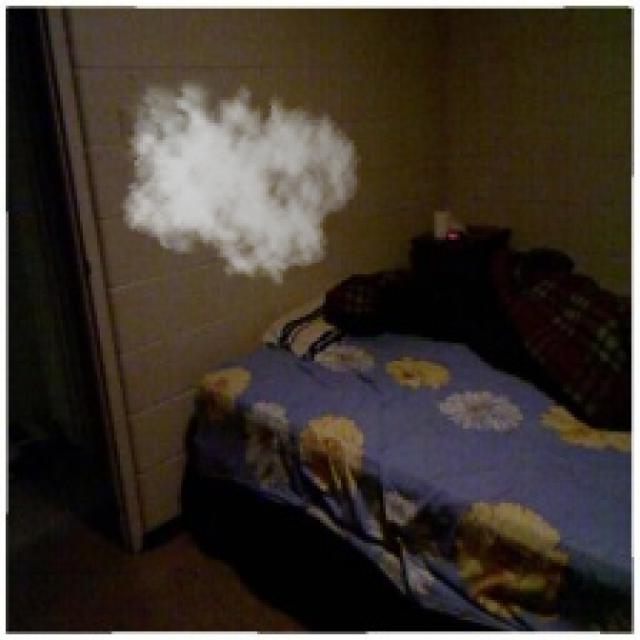smoke: (114, 68, 360, 286)
